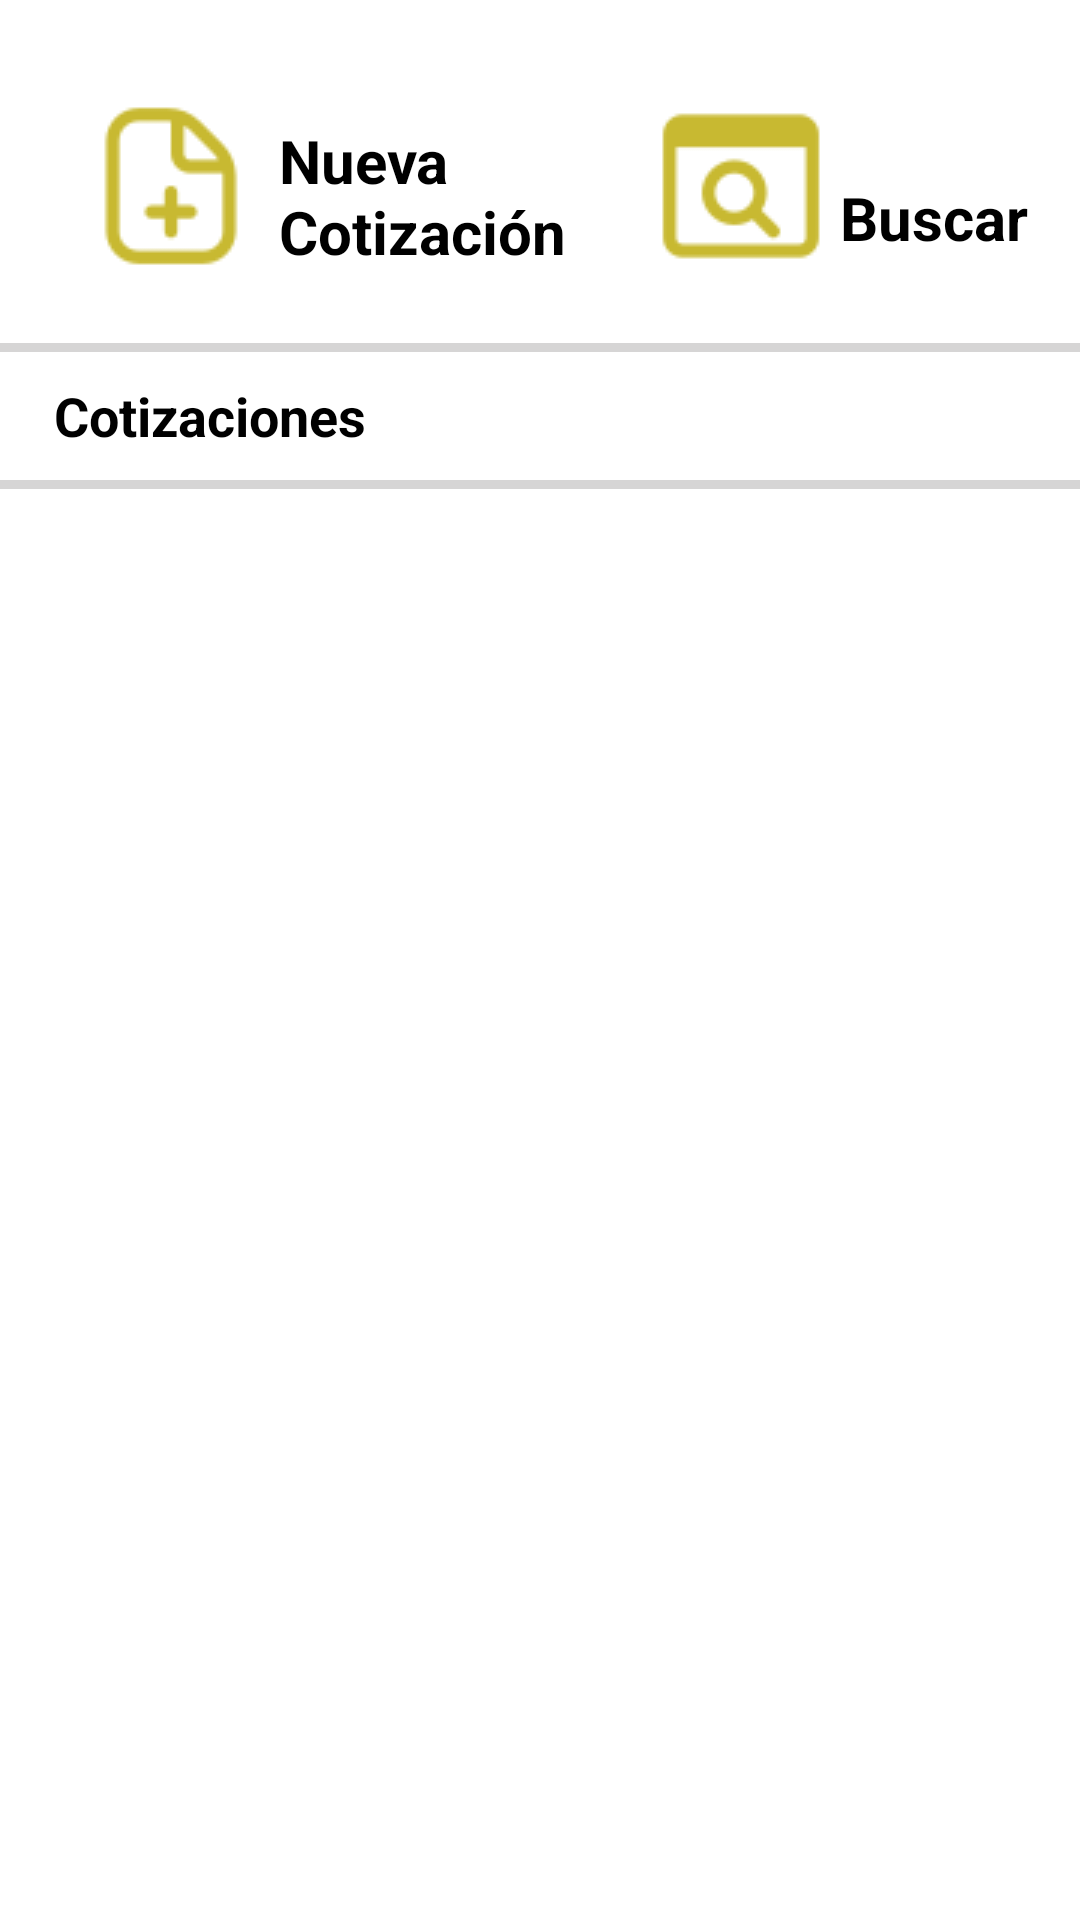

Where to tap for icons on this 1080w x 1920h app screen, as point (x, y):
buscador: point (741, 186)
file plus: point (171, 186)
